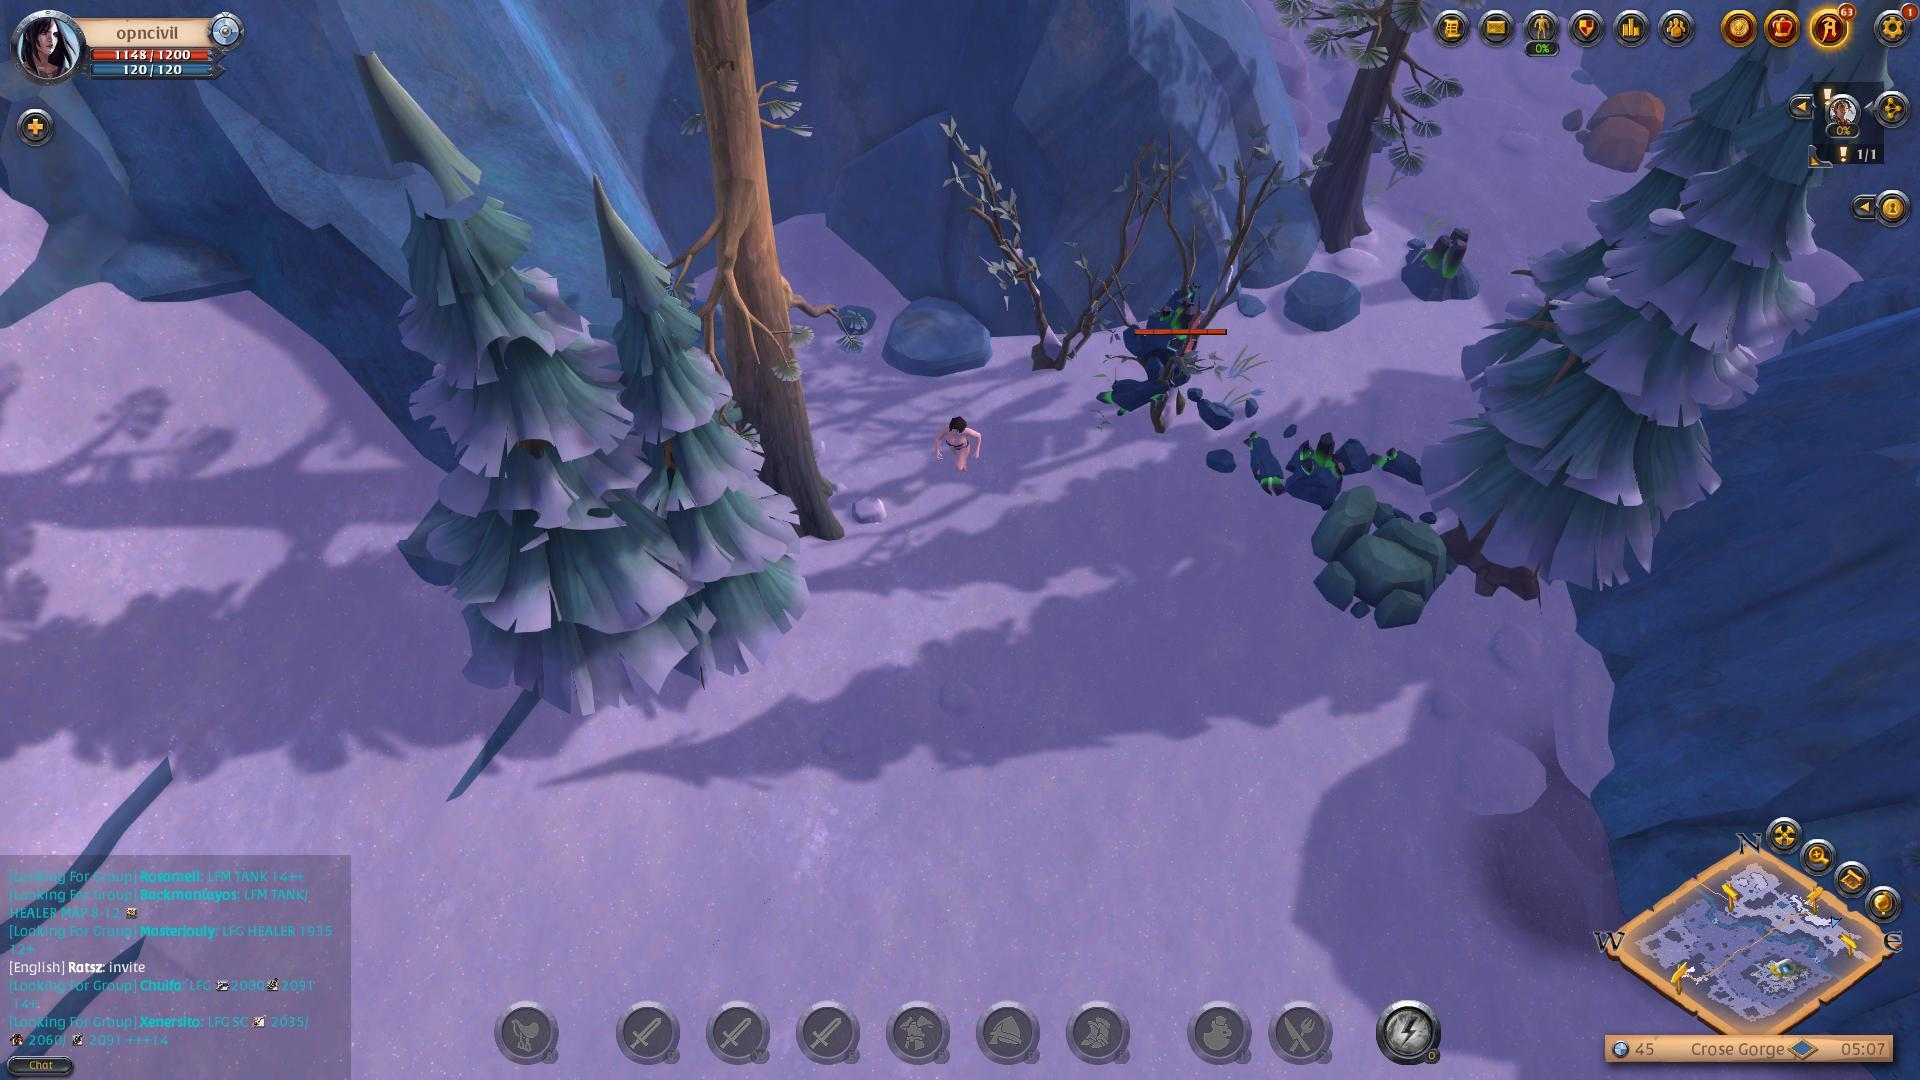copper_ore: (500, 433, 562, 467)
limestone: (1303, 476, 1455, 632), (1559, 73, 1664, 175), (1398, 227, 1486, 306)
